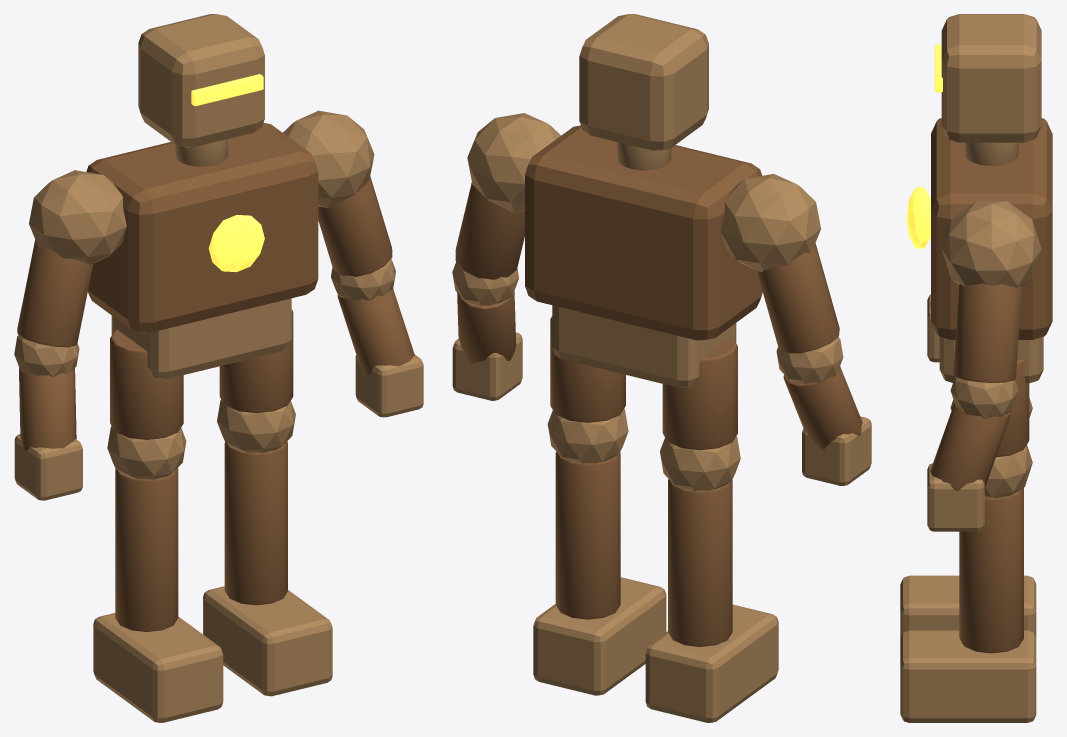
The model's file is SM_WoodGolemTarget.fbx.
3 renders of one model, left to right at view 1: azimuth 30°, elevation 25°; view 2: azimuth 150°, elevation 25°; view 3: azimuth 270°, elevation 25°, orthographic. The views are drawn at different scales.
Visible parts, largest first — view 1: SM_WoodGolemTarget; view 2: SM_WoodGolemTarget; view 3: SM_WoodGolemTarget.
Boxes of the visible parts, x1,y1,x2,y2 form: SM_WoodGolemTarget: [14, 14, 423, 722]; SM_WoodGolemTarget: [452, 14, 871, 722]; SM_WoodGolemTarget: [900, 14, 1052, 722].
Size of what is drawn, in the model's own units: 1.27 by 0.425 by 2.01.
